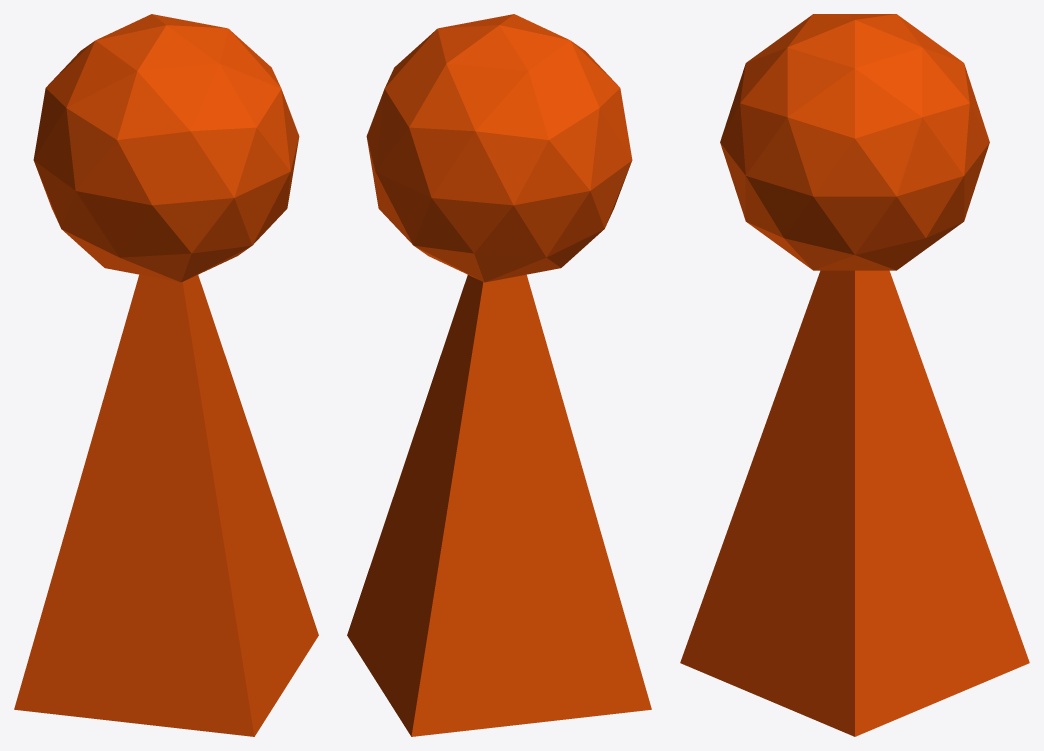
Rendered from player1.glb.
3 views of the same model, side by side, from view 1: azimuth 30°, elevation 25°; view 2: azimuth 150°, elevation 25°; view 3: azimuth 270°, elevation 25° (orthographic).
Visible parts, largest first — view 1: Cone; view 2: Cone; view 3: Cone.
Part boxes in pixels (x1,y1,x2,y2): Cone: (14, 14, 318, 736); Cone: (347, 14, 651, 736); Cone: (680, 14, 1029, 736).
Bounding box in the file's own units: 0.7776 × 1.58 × 0.7776.
